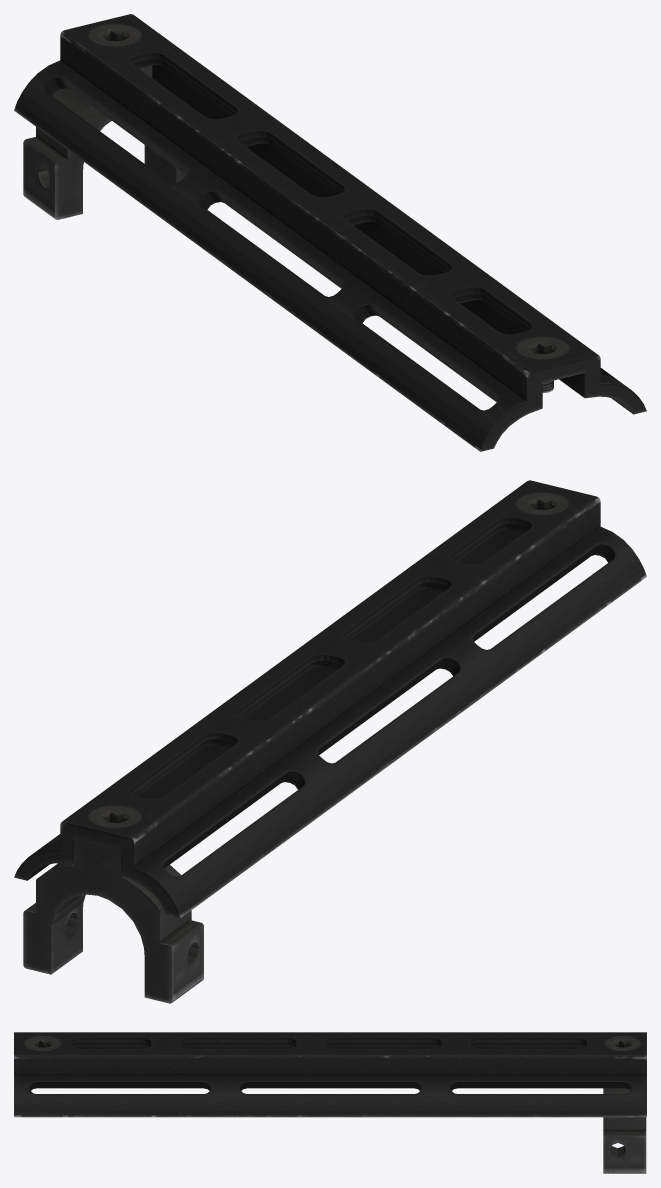
The picture shows the model from 3 angles, top to bottom: view 1: azimuth 30°, elevation 25°; view 2: azimuth 150°, elevation 25°; view 3: azimuth 270°, elevation 25°; orthographic projection. The views are drawn at different scales.
Parts seen in each view (by area): view 1: TW_66ffc72082d36dec82030c1f_PZ_Import; view 2: TW_66ffc72082d36dec82030c1f_PZ_Import; view 3: TW_66ffc72082d36dec82030c1f_PZ_Import.
Part boxes in pixels (x1=…): TW_66ffc72082d36dec82030c1f_PZ_Import: x1=14, y1=14, x2=646, y2=451; TW_66ffc72082d36dec82030c1f_PZ_Import: x1=14, y1=480, x2=646, y2=1003; TW_66ffc72082d36dec82030c1f_PZ_Import: x1=14, y1=1032, x2=646, y2=1173.
Bounding box in the file's own units: 0.0208 × 0.1008 × 0.0187.
Materials: 1 (1 with a texture image).
